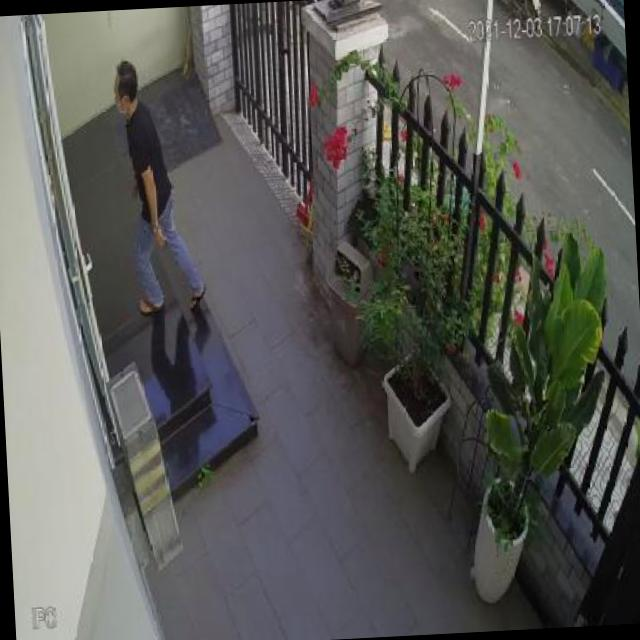Person: (111, 56, 206, 321)
